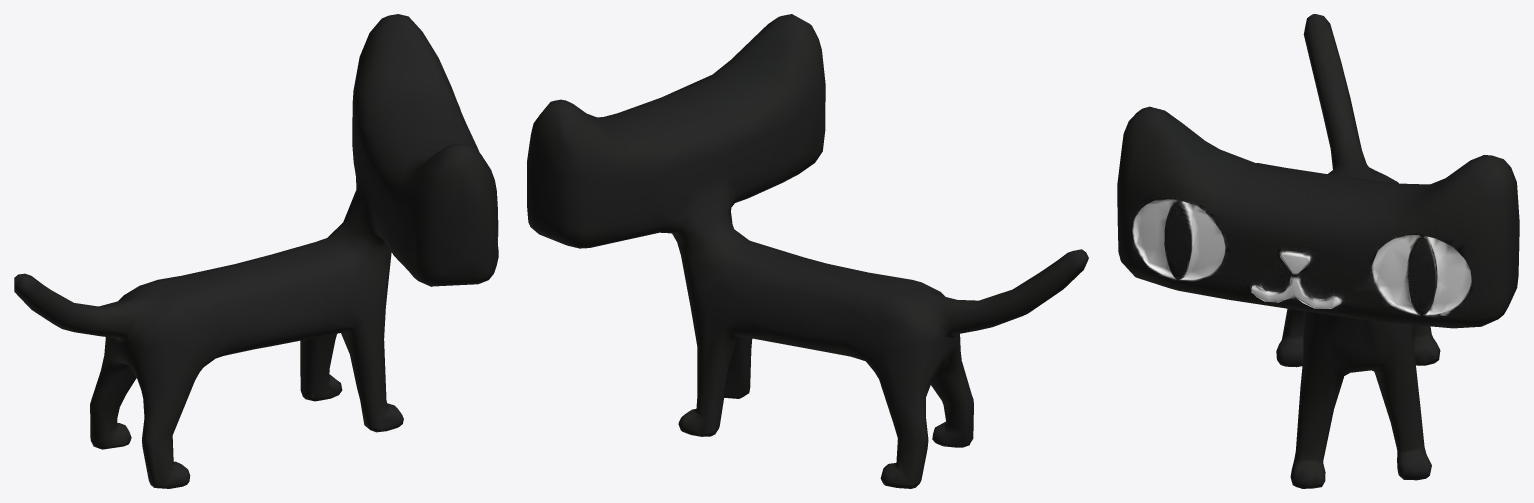
Rendered from LACQUER-lo.glb.
The picture shows the model from 3 angles, left to right: view 1: azimuth 30°, elevation 25°; view 2: azimuth 150°, elevation 25°; view 3: azimuth 270°, elevation 25°; orthographic projection. The views are drawn at different scales.
Visible parts, largest first — view 1: tripo_node_a0ef891d-0e94-4d73-bc99-f03a43777b6c; view 2: tripo_node_a0ef891d-0e94-4d73-bc99-f03a43777b6c; view 3: tripo_node_a0ef891d-0e94-4d73-bc99-f03a43777b6c.
Boxes of the visible parts, box(x1,y1,x2,y2) form: tripo_node_a0ef891d-0e94-4d73-bc99-f03a43777b6c: box(14, 14, 498, 488); tripo_node_a0ef891d-0e94-4d73-bc99-f03a43777b6c: box(527, 14, 1088, 488); tripo_node_a0ef891d-0e94-4d73-bc99-f03a43777b6c: box(1117, 14, 1519, 488).
Bounding box in the file's own units: 1.56 × 0.9985 × 0.9719.
1 material, 1 textured.
